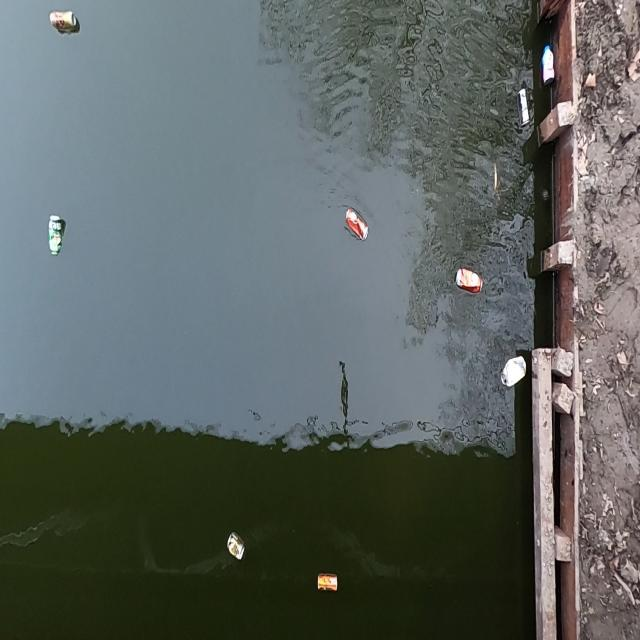Non plastique: (342, 198, 376, 250), (498, 343, 530, 395), (453, 257, 489, 303), (44, 212, 67, 266), (49, 8, 84, 42), (223, 527, 249, 570), (313, 570, 343, 606)
